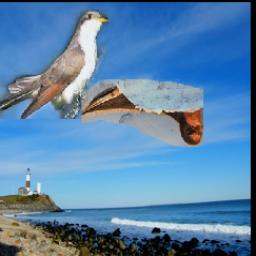Cuckoo: (0, 10, 109, 119)
Swallow: (81, 80, 203, 148)
